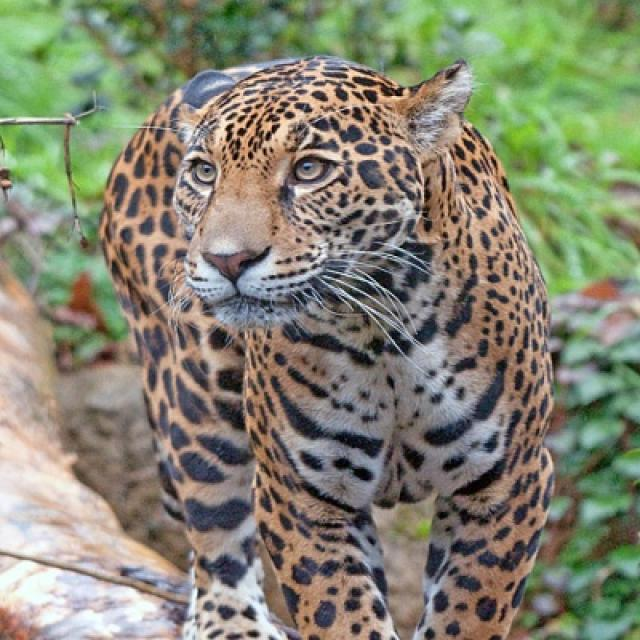Jaguar: (99, 54, 557, 638)
